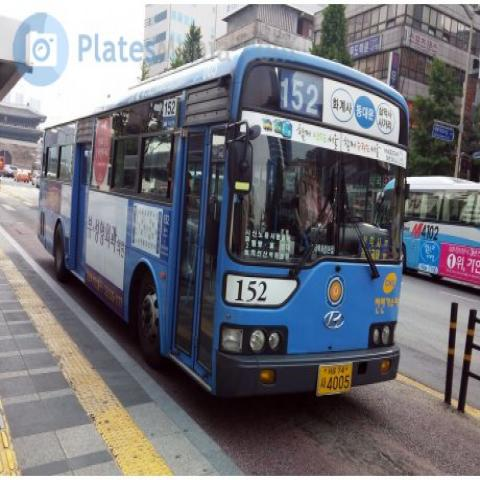LP: (313, 352, 361, 406)
